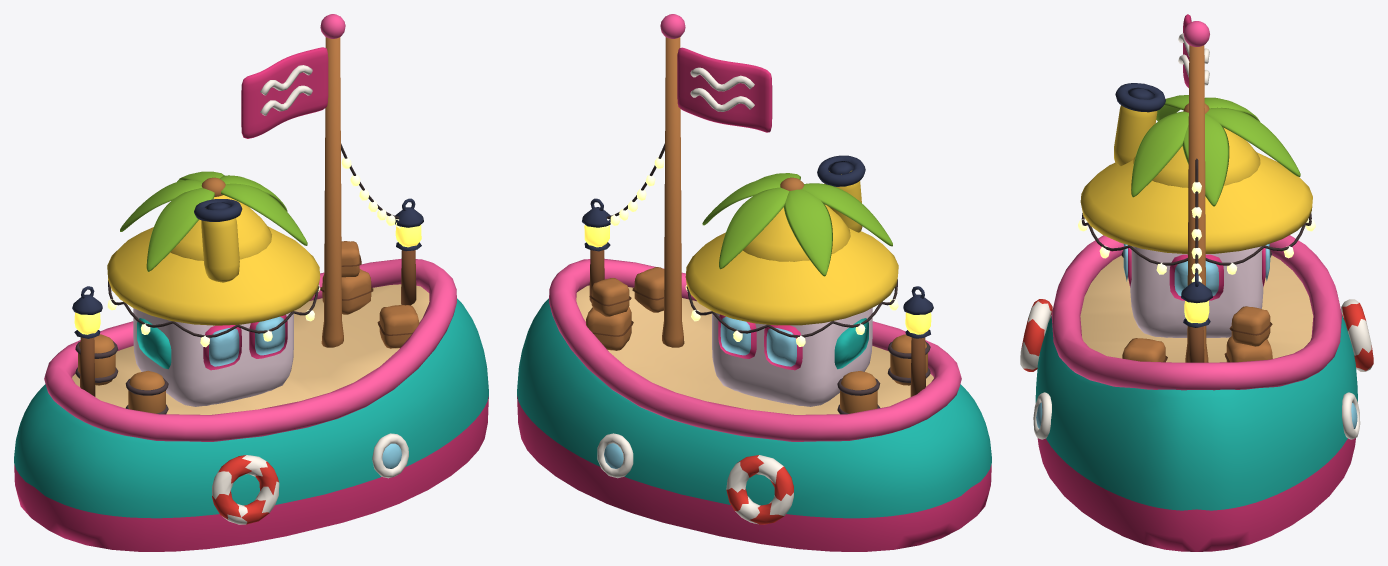
File: arcilla-fiesta.glb
The picture shows the model from 3 angles, left to right: view 1: azimuth 30°, elevation 25°; view 2: azimuth 150°, elevation 25°; view 3: azimuth 270°, elevation 25°; orthographic projection. The views are drawn at different scales.
Parts seen in each view (by area): view 1: hull, roll, roof, cabin, palm, mast, flag, windows, crates, life_rings, chimney, barrels (+6 smaller); view 2: hull, roll, roof, palm, cabin, mast, flag, crates, windows, life_rings, barrels, lanterns (+6 smaller); view 3: hull, roof, roll, palm, cabin, mast, crates, life_rings, chimney, windows, portholes, lanterns (+4 smaller).
Boxes of the visible parts, box(x1,y1,x2,y2) form: hull: box(14, 284, 488, 551); roll: box(44, 258, 456, 441); roof: box(107, 195, 320, 325); cabin: box(133, 308, 293, 406); palm: box(120, 171, 307, 271); mast: box(321, 37, 343, 347); flag: box(241, 47, 328, 138); windows: box(137, 314, 287, 370); crates: box(320, 241, 419, 348); life_rings: box(212, 455, 279, 524); chimney: box(194, 199, 242, 282); barrels: box(75, 334, 168, 414); hull: box(517, 285, 991, 551); roll: box(549, 258, 961, 441); roof: box(685, 204, 898, 325); palm: box(702, 173, 892, 276); cabin: box(712, 308, 872, 406); mast: box(662, 37, 684, 347); flag: box(677, 47, 772, 132); crates: box(586, 267, 664, 350); windows: box(718, 314, 868, 370); life_rings: box(726, 455, 793, 524); barrels: box(837, 334, 930, 414); lanterns: box(582, 198, 933, 338); hull: box(1035, 255, 1357, 551); roof: box(1080, 127, 1312, 254); roll: box(1051, 235, 1341, 390); palm: box(1131, 95, 1300, 206); cabin: box(1130, 246, 1263, 337); mast: box(1185, 45, 1208, 362); crates: box(1122, 306, 1272, 362); life_rings: box(1020, 299, 1373, 371); chimney: box(1114, 83, 1165, 165); windows: box(1123, 243, 1270, 300); portholes: box(1033, 392, 1360, 439); lanterns: box(1181, 272, 1212, 327).
Size of the model in its own units: 1.93 by 1.82 by 1.27.
